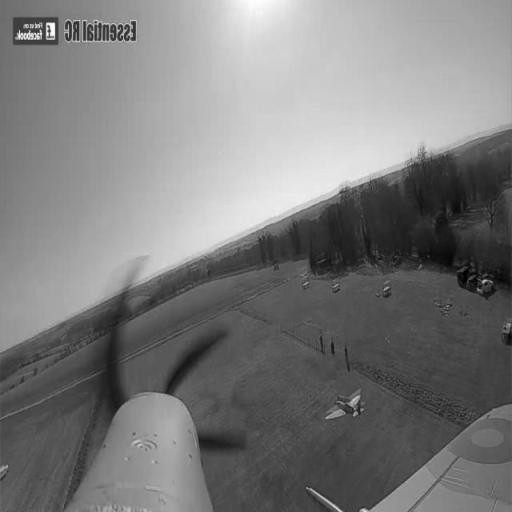uav: (325, 389, 364, 423)
